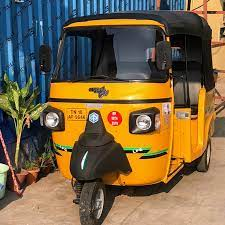auto: (39, 8, 221, 225)
